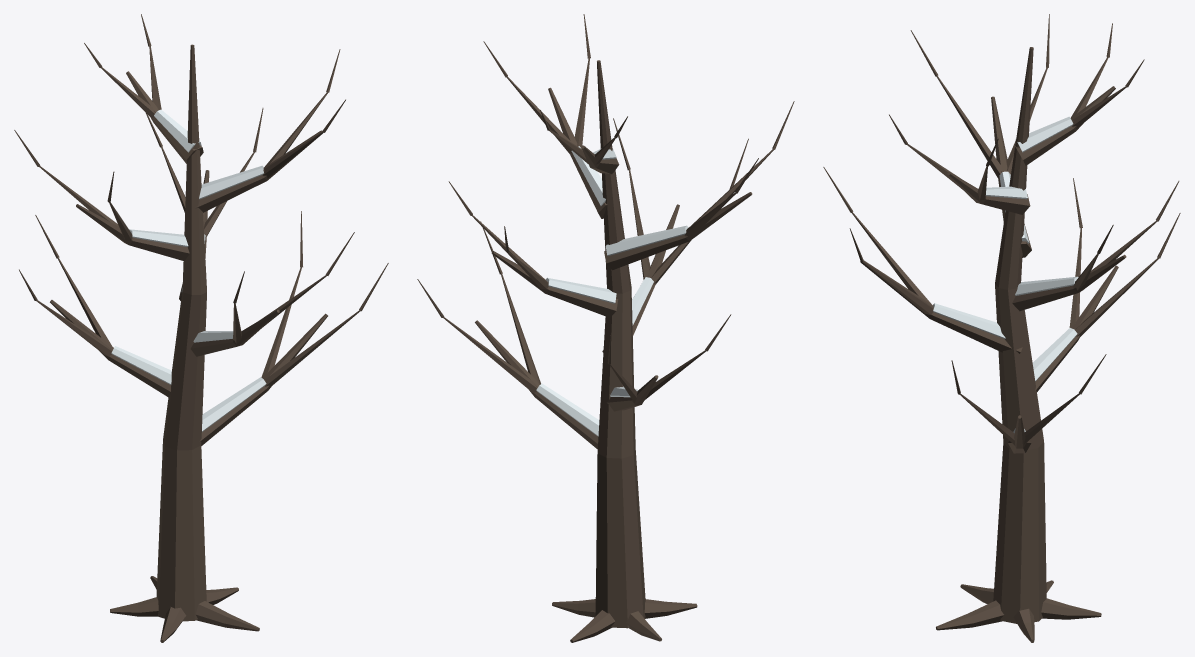
File: TREE_14_BareMedium.glb
The picture shows the model from 3 angles, left to right: view 1: azimuth 30°, elevation 25°; view 2: azimuth 150°, elevation 25°; view 3: azimuth 270°, elevation 25°; orthographic projection. The views are drawn at different scales.
Visible parts, largest first — view 1: TREE_14_BareMedium; view 2: TREE_14_BareMedium; view 3: TREE_14_BareMedium.
Boxes of the visible parts, bbox=[...] form: TREE_14_BareMedium: bbox=[14, 14, 388, 642]; TREE_14_BareMedium: bbox=[417, 14, 794, 642]; TREE_14_BareMedium: bbox=[823, 14, 1180, 642].
Bounding box in the file's own units: 3.92 × 6.43 × 3.62.
